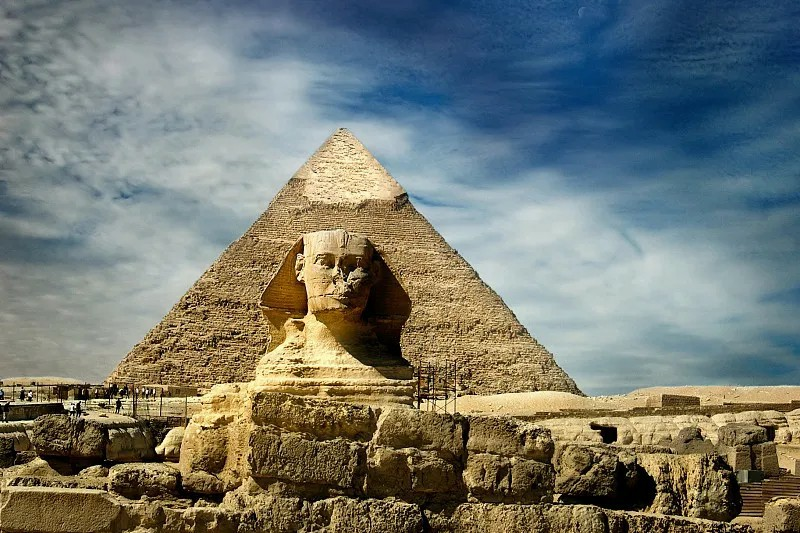Pyramid: (102, 128, 588, 396)
